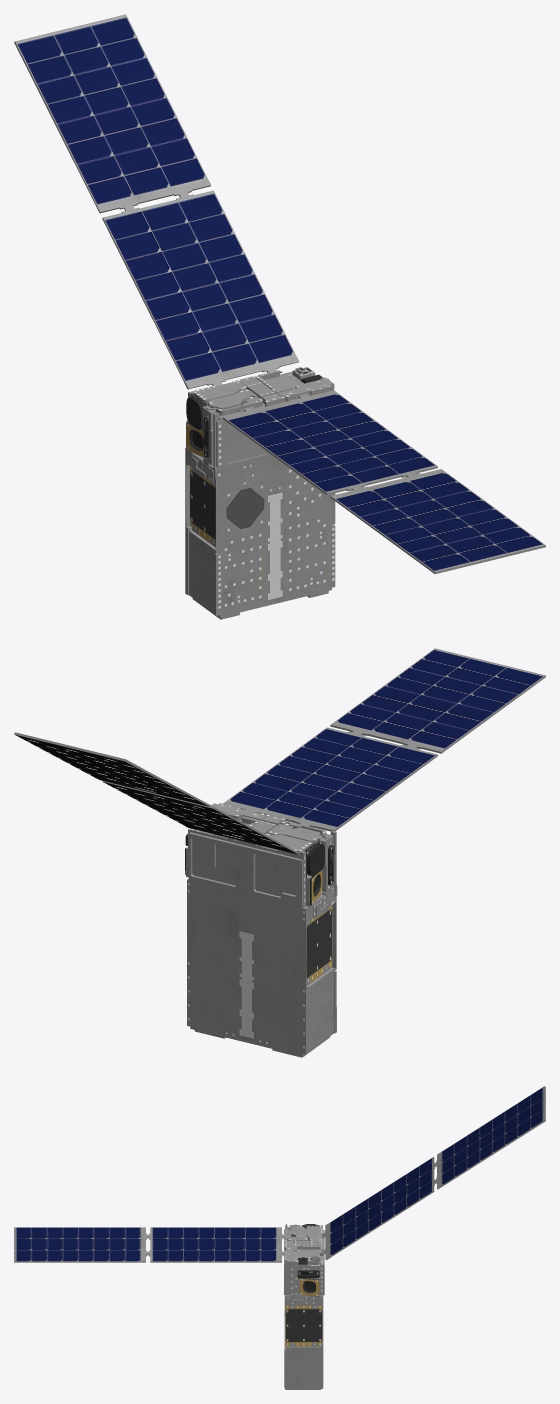
File: starling.glb
3 renders of one model, top to bottom at view 1: azimuth 30°, elevation 25°; view 2: azimuth 150°, elevation 25°; view 3: azimuth 270°, elevation 25°, orthographic. The views are drawn at different scales.
Visible parts, largest first — view 1: wing-left-low_Baked, BodySimpler_Baked; view 2: BodySimpler_Baked, wing-left-low_Baked; view 3: wing-left-low_Baked, BodySimpler_Baked.
Part boxes in pixels (box(x1,y1,x2,y2)): wing-left-low_Baked: box(14, 14, 545, 574); BodySimpler_Baked: box(185, 367, 335, 619); BodySimpler_Baked: box(185, 803, 337, 1057); wing-left-low_Baked: box(14, 648, 545, 854); wing-left-low_Baked: box(14, 1086, 545, 1262); BodySimpler_Baked: box(284, 1224, 324, 1389).
Size of the model in its own units: 0.2421 by 0.7799 by 1.39.
2 materials, 2 textured.
